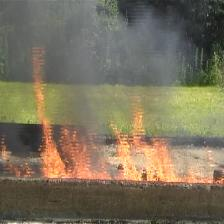fire: (1, 47, 224, 183)
